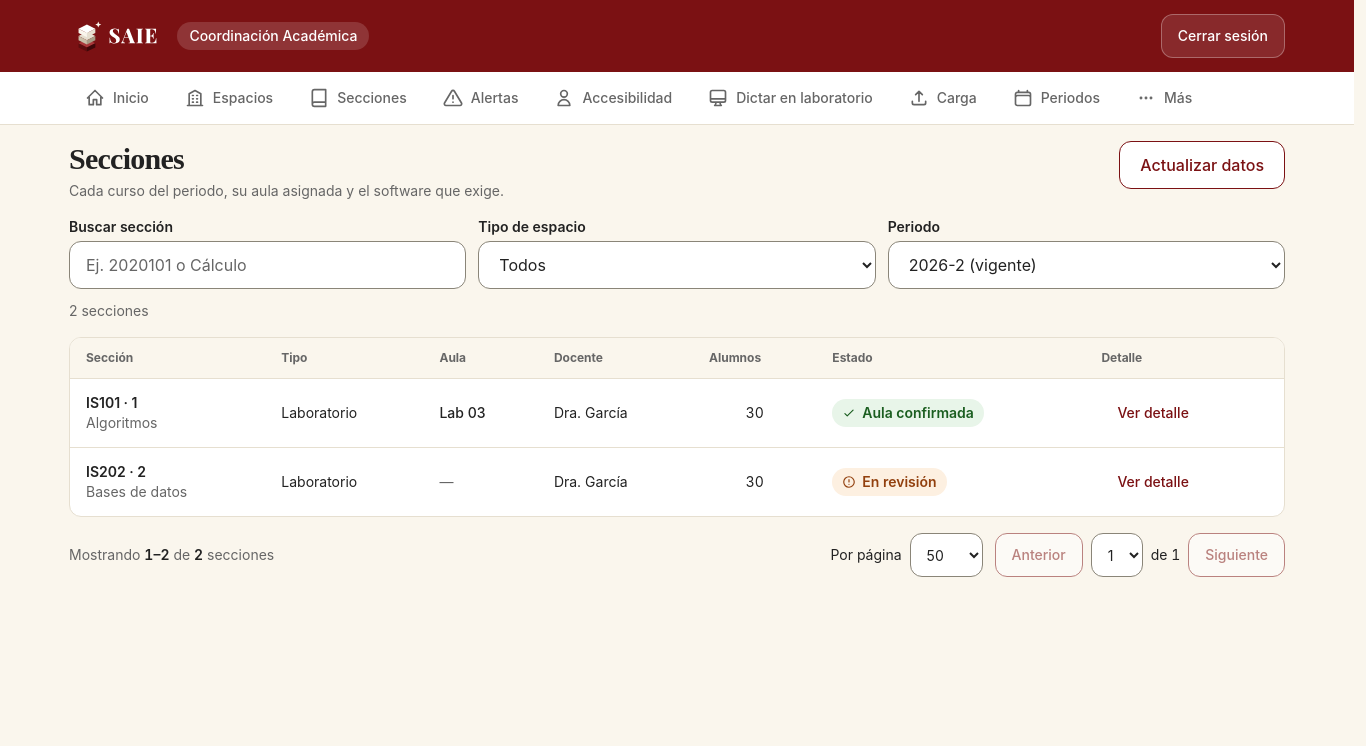
Scenario: Gestión individual de secciones (Issue 4.31) › cerrar el detalle deja de editar y hides la sección
Click the button named "Ver detalle de IS101 1" at (1153, 413), box [1101, 391, 1205, 435]
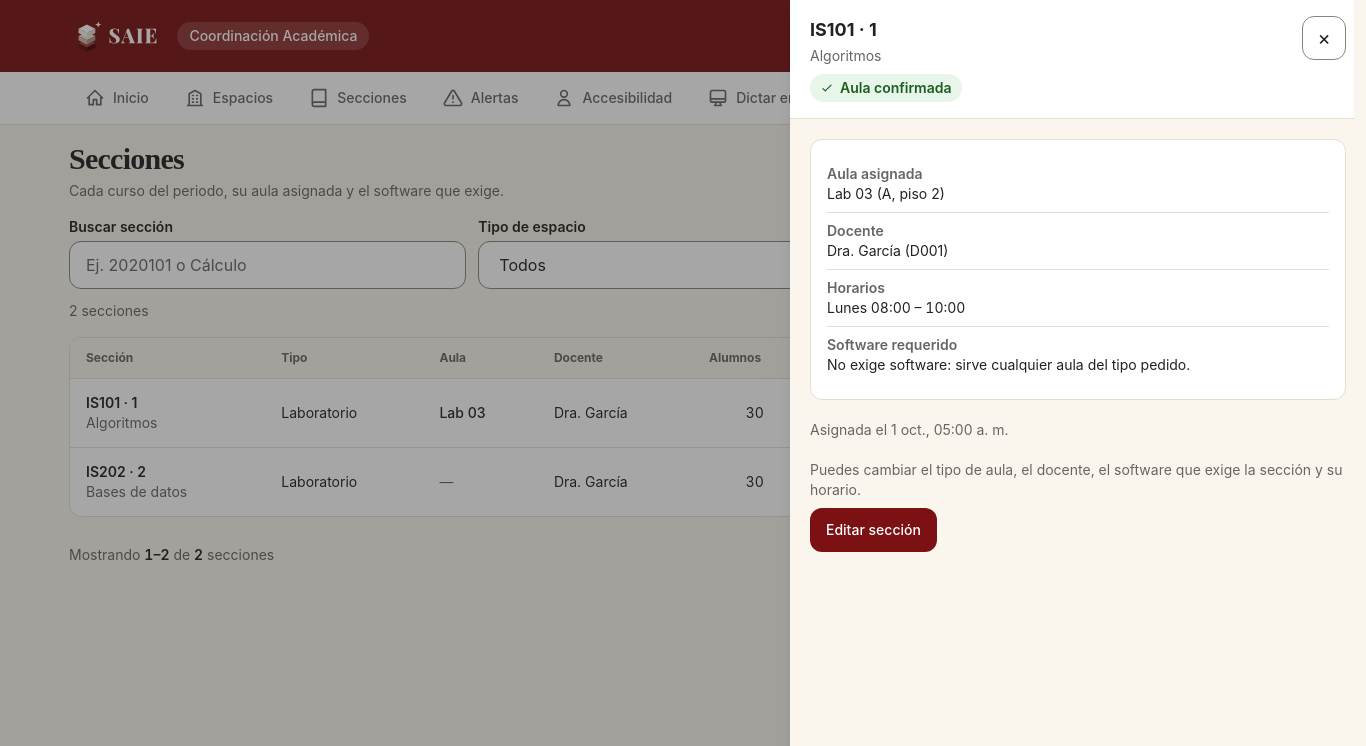
Click the button "Editar sección" at (873, 530), box [810, 508, 937, 552]
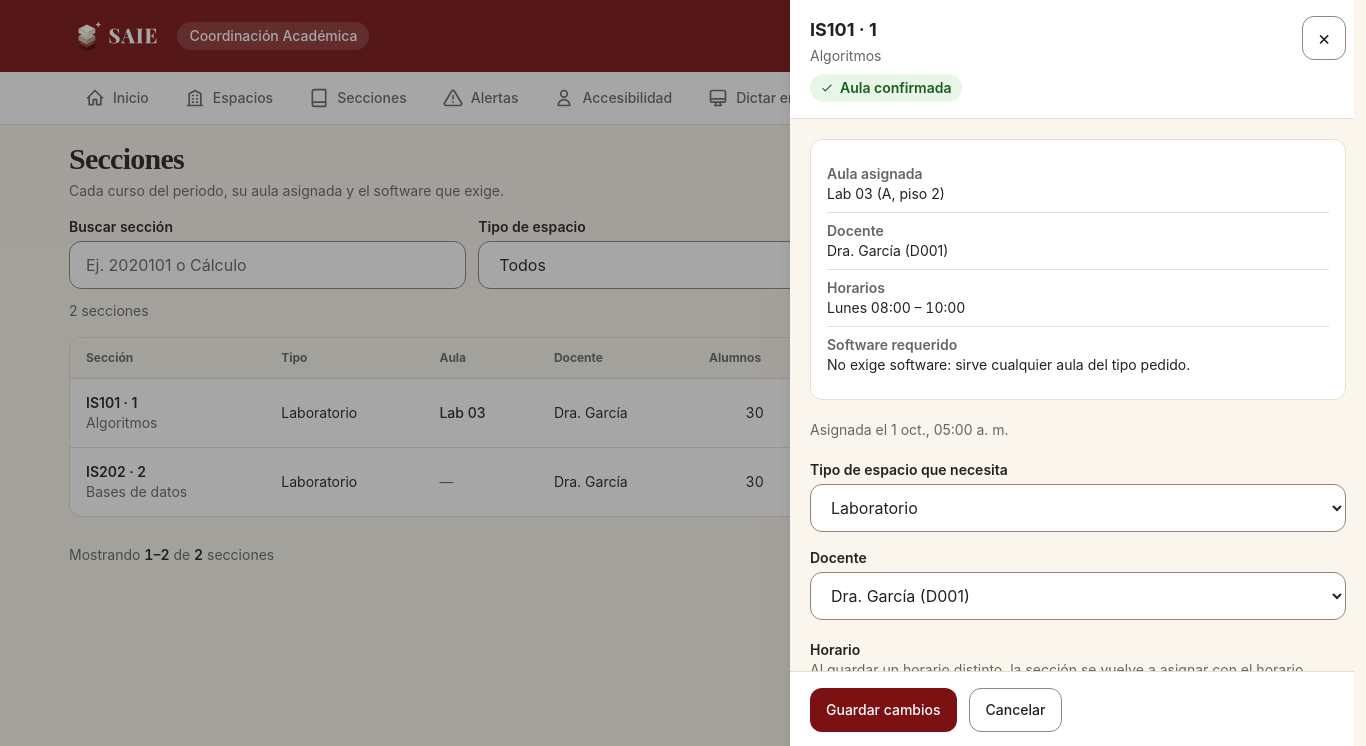
# Docentes y catálogo se piden al abrir la edición: el formulario aparece al llegar.
Click the button "Cancelar" at (1015, 710), box [968, 688, 1062, 732]
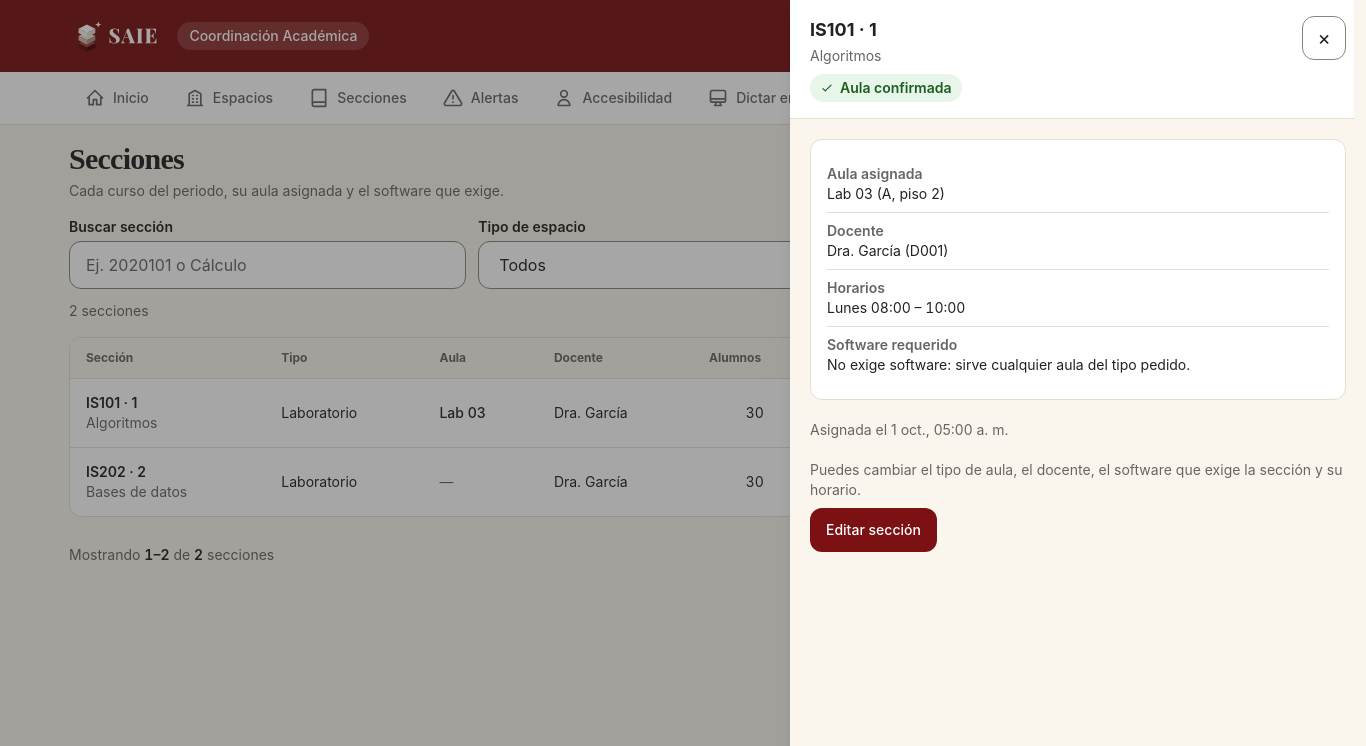
expect the button "Editar sección" is shown: met, box [810, 508, 937, 552]
